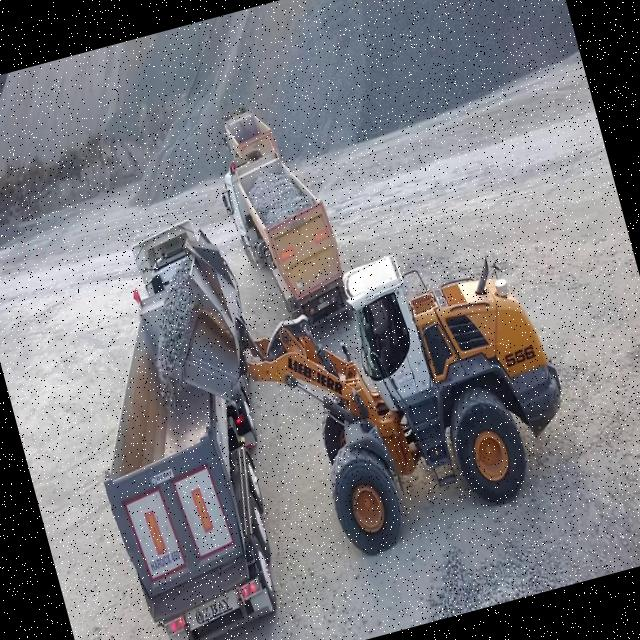Dump Truck: (37, 216, 300, 640), (212, 134, 356, 345), (214, 98, 281, 176)
Loader: (125, 147, 591, 598)
